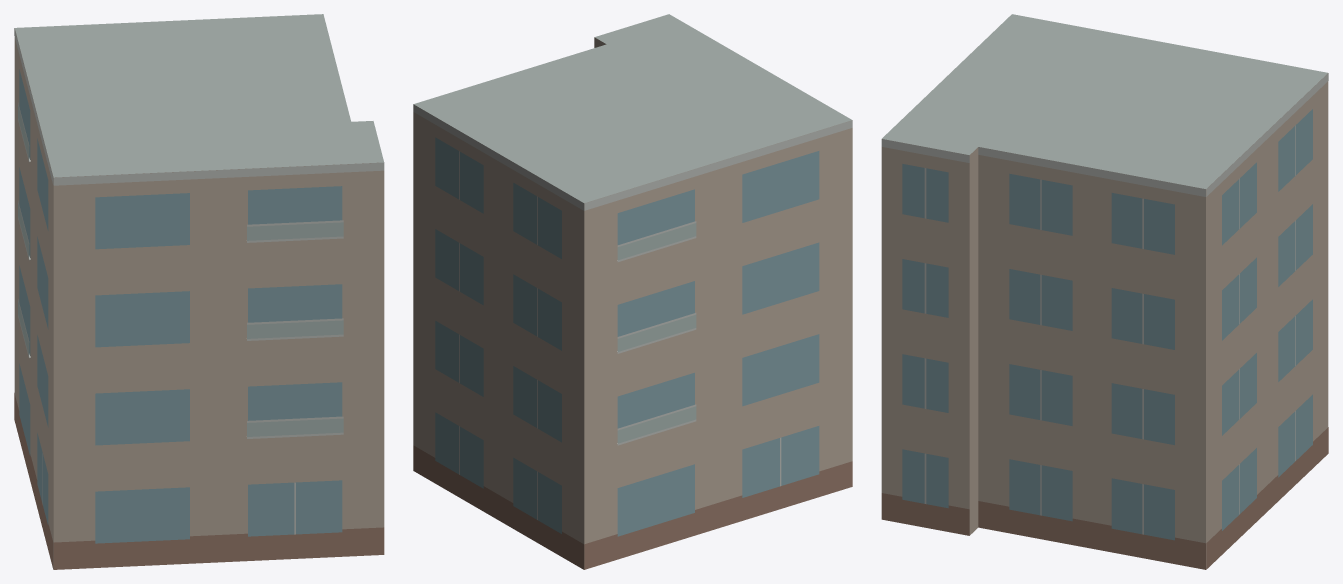
File: survey-upis-32981743.glb
The picture shows the model from 3 angles, left to right: view 1: azimuth 30°, elevation 25°; view 2: azimuth 150°, elevation 25°; view 3: azimuth 270°, elevation 25°; orthographic projection. The views are drawn at different scales.
Parts seen in each view (by area): view 1: survey-upis-32981743.tmp; view 2: survey-upis-32981743.tmp; view 3: survey-upis-32981743.tmp.
Boxes of the visible parts, x1,y1,x2,y2 form: survey-upis-32981743.tmp: (14, 14, 384, 569); survey-upis-32981743.tmp: (413, 14, 852, 569); survey-upis-32981743.tmp: (881, 14, 1328, 569).
Size of the model in its own units: 11.51 by 11.65 by 12.4.
